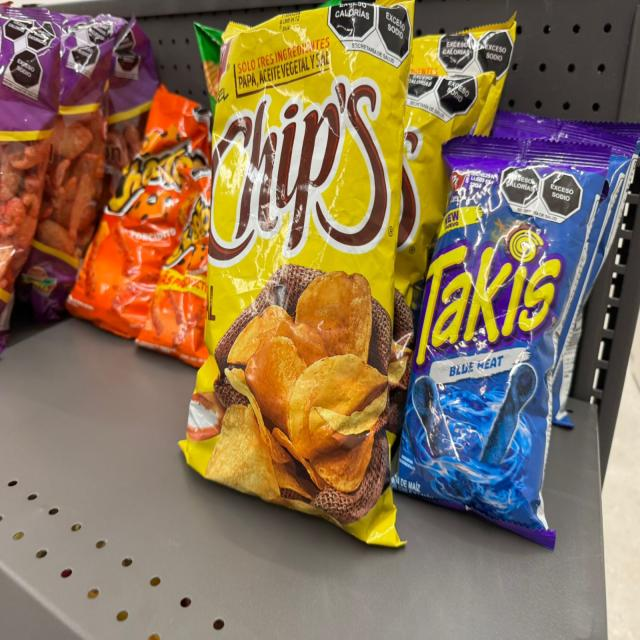CHEETOS TORCIDITOS 240GR: (137, 166, 212, 371)
Cheetos grandes: (66, 83, 211, 339)
Papas Chips Barcel 170 gr bolsa con sal: (209, 0, 517, 550), (180, 2, 414, 543), (414, 17, 515, 133)
RUFFLES QUESO 185GR: (202, 31, 222, 114)
Takis Blue 75g: (394, 109, 640, 547), (393, 136, 614, 539), (486, 109, 640, 426)
chicharrones de cerdo intenso: (0, 4, 158, 350), (22, 12, 129, 319), (0, 7, 67, 311), (97, 14, 160, 226)
